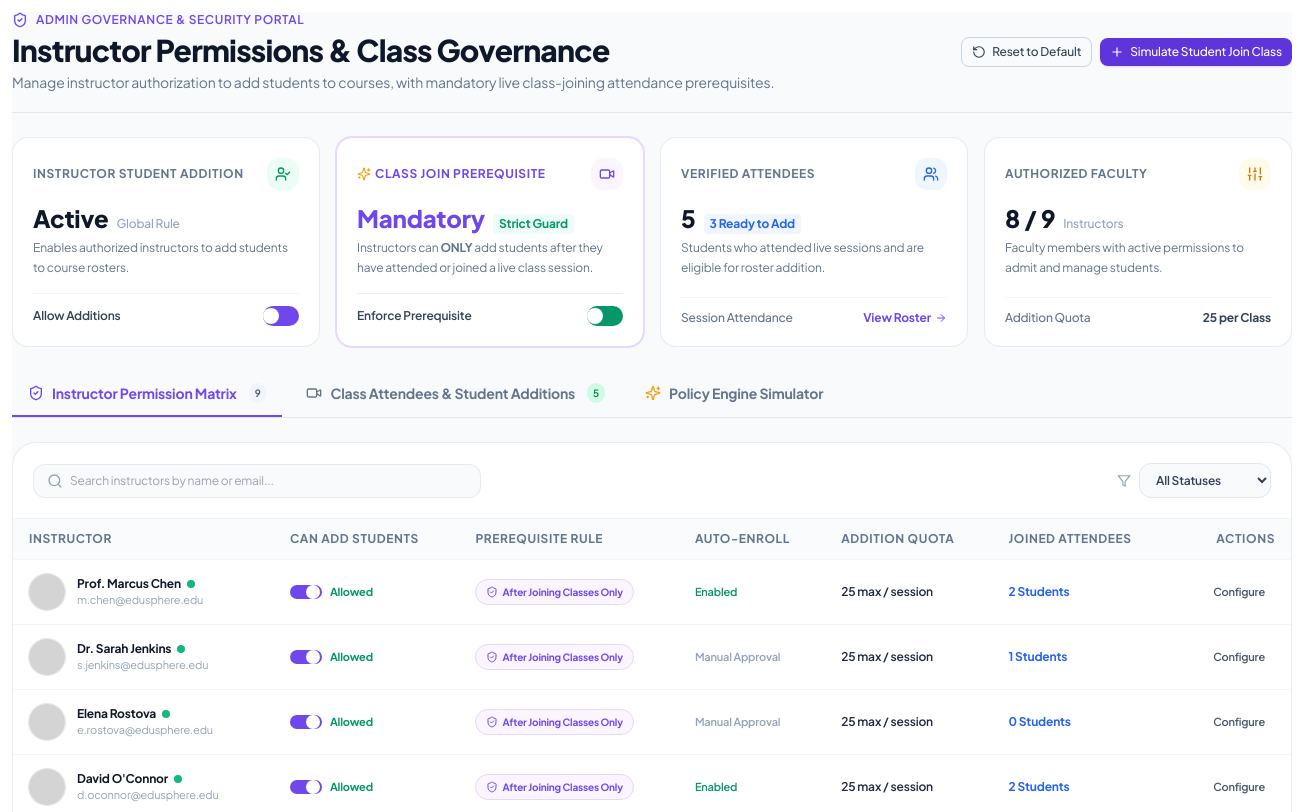
Test: Instructor Permissions & Class-Joining Governance › switches between tabs on the Permissions page to view class attendees
The image size is (1304, 812).
Click the button "Class Attendees & Student Additions 5": (456, 394) [290,371,621,417]
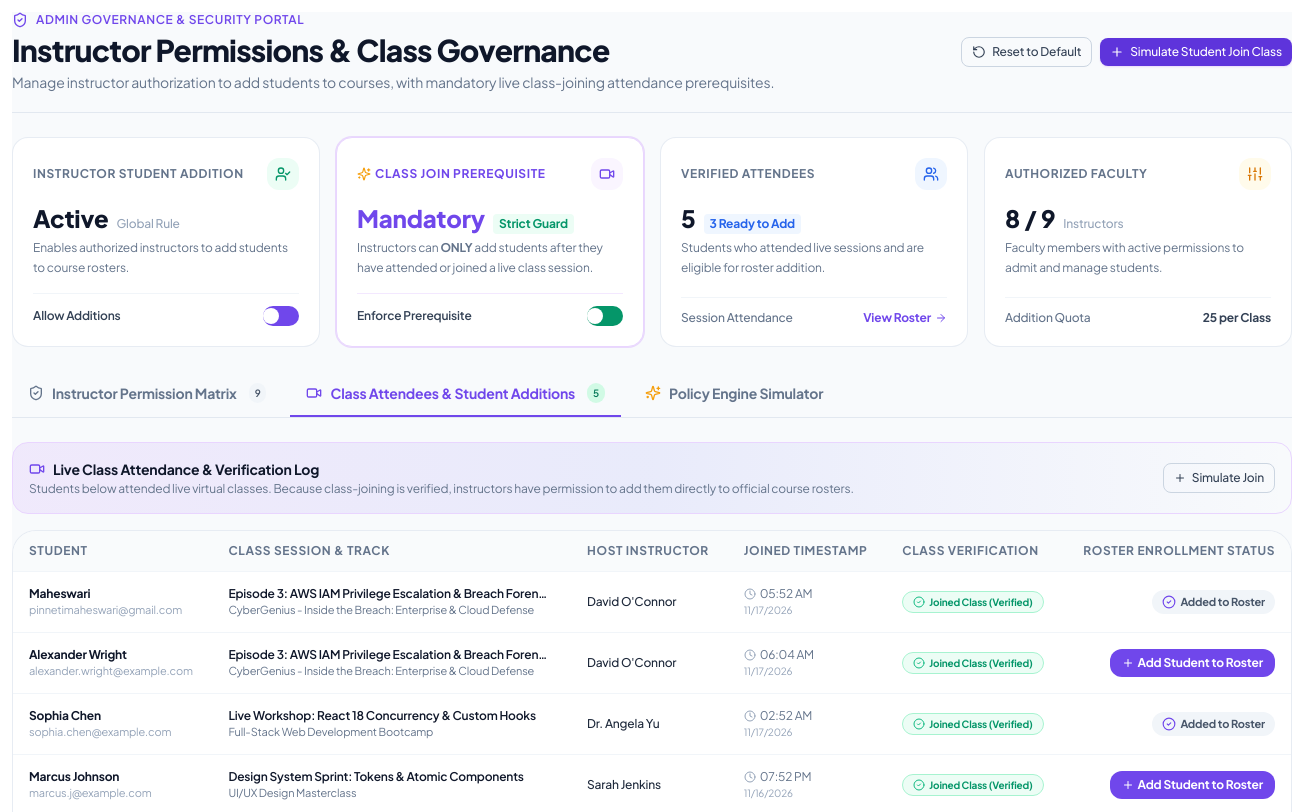
Now the heading "Live Class Attendance & Verification Log" is shown, box [29,460,319,478]
Now the text "Joined Class (Verified)" in the row of "pinnetimaheswari@gmail.com" is shown, box [929,596,1033,608]
